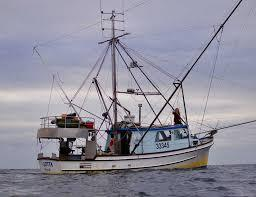fishing boat: (35, 0, 235, 176)
